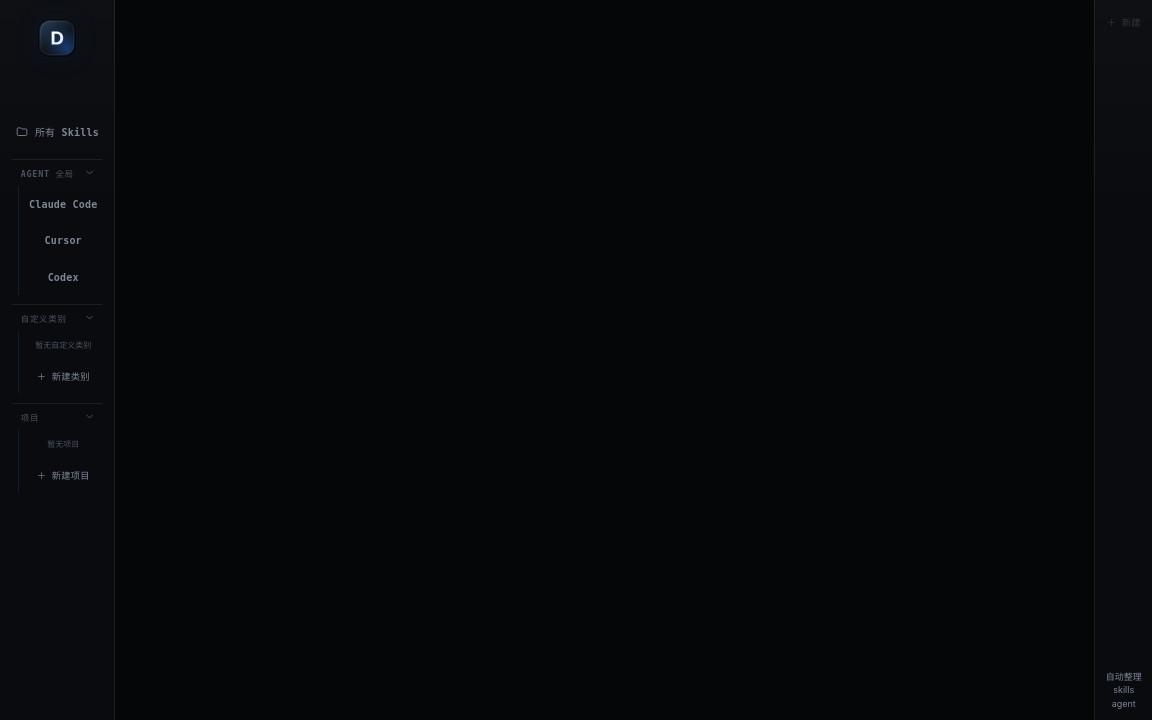
Scenario: B3 assistant platform › can delete the final Agent window and create a fresh one
Check: the button with aria-label "新建 Agent 窗口" is disabled, box [1096,6,1151,38]
Click the button "所有 Skills" at [57, 132], box [12,114,102,150]
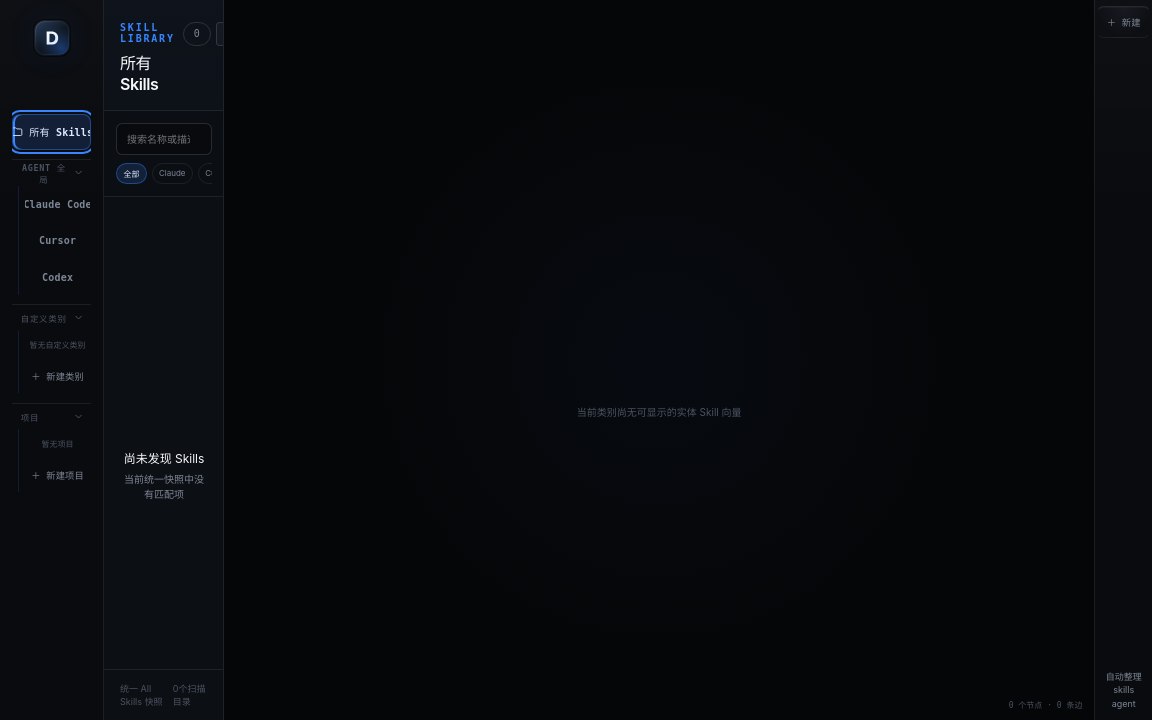
Click the button with aria-label "新建 Agent 窗口" at [1124, 22], box [1096,6,1151,38]
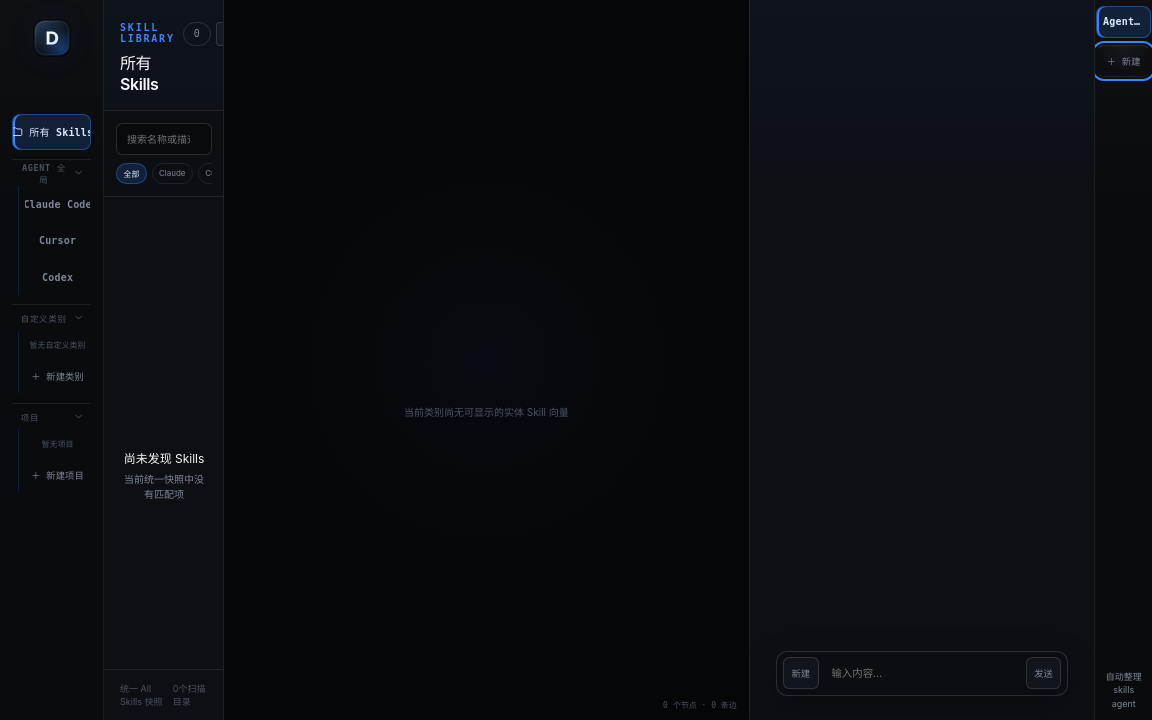
Right-click the button with aria-label "收起 Agent 1" at [1124, 22], box [1096,6,1151,38]
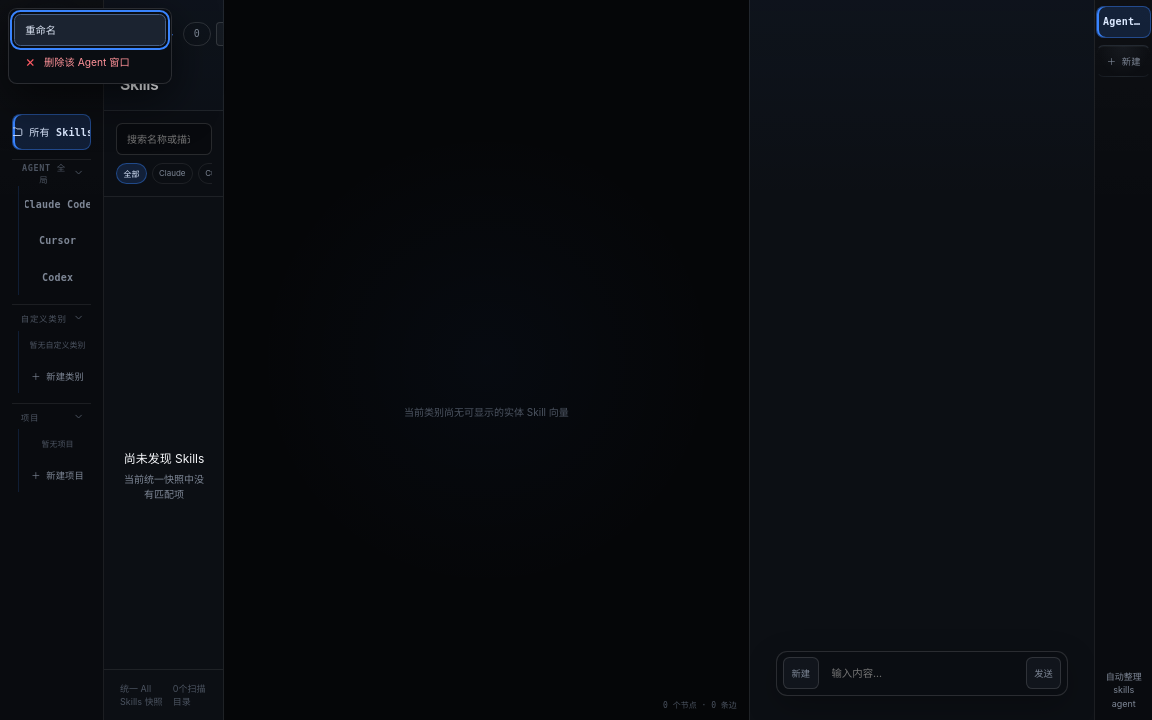
Click the menu item "× 删除该 Agent 窗口" at [90, 62], box [14,46,166,78]
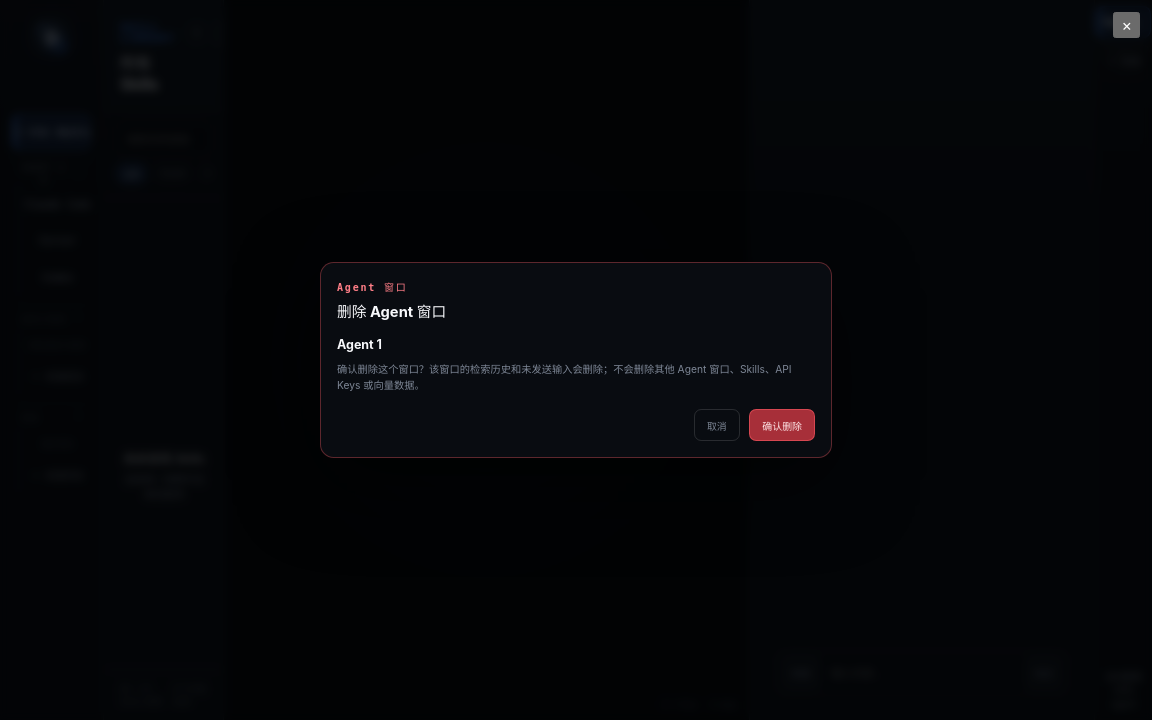
Click the button "确认删除" at [782, 426], box [749,410,815,442]
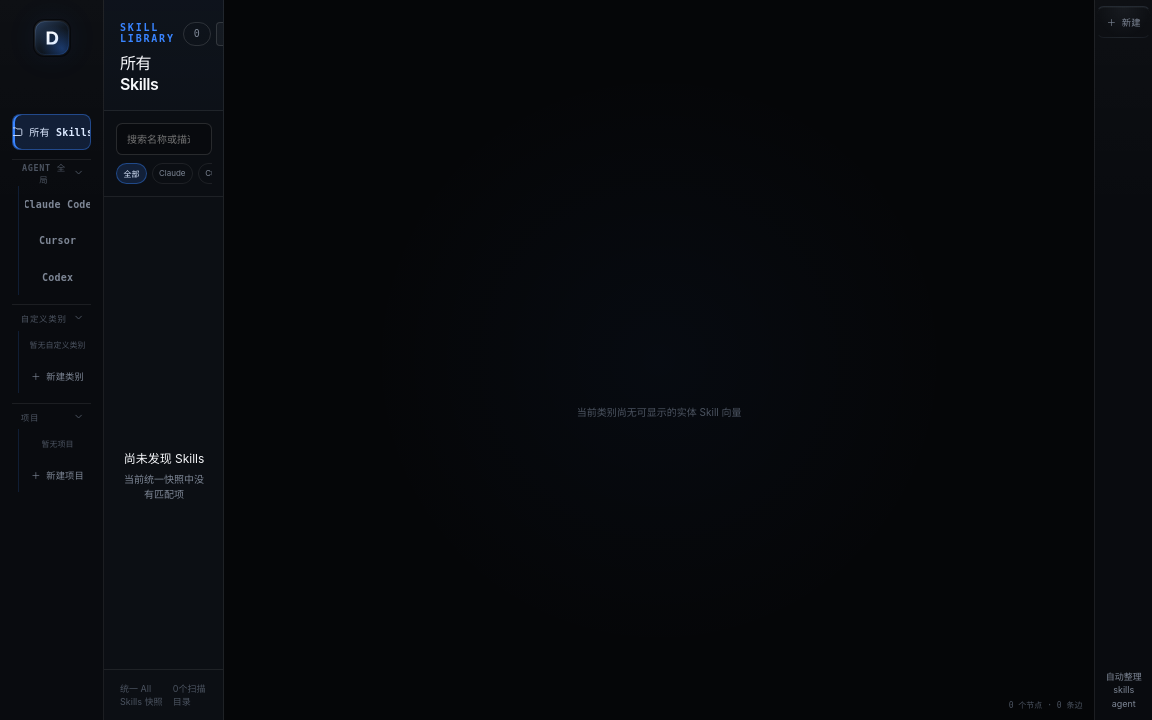
Check: the button with aria-label "新建 Agent 窗口" is enabled
Click the button with aria-label "新建 Agent 窗口" at [1124, 22], box [1096,6,1151,38]
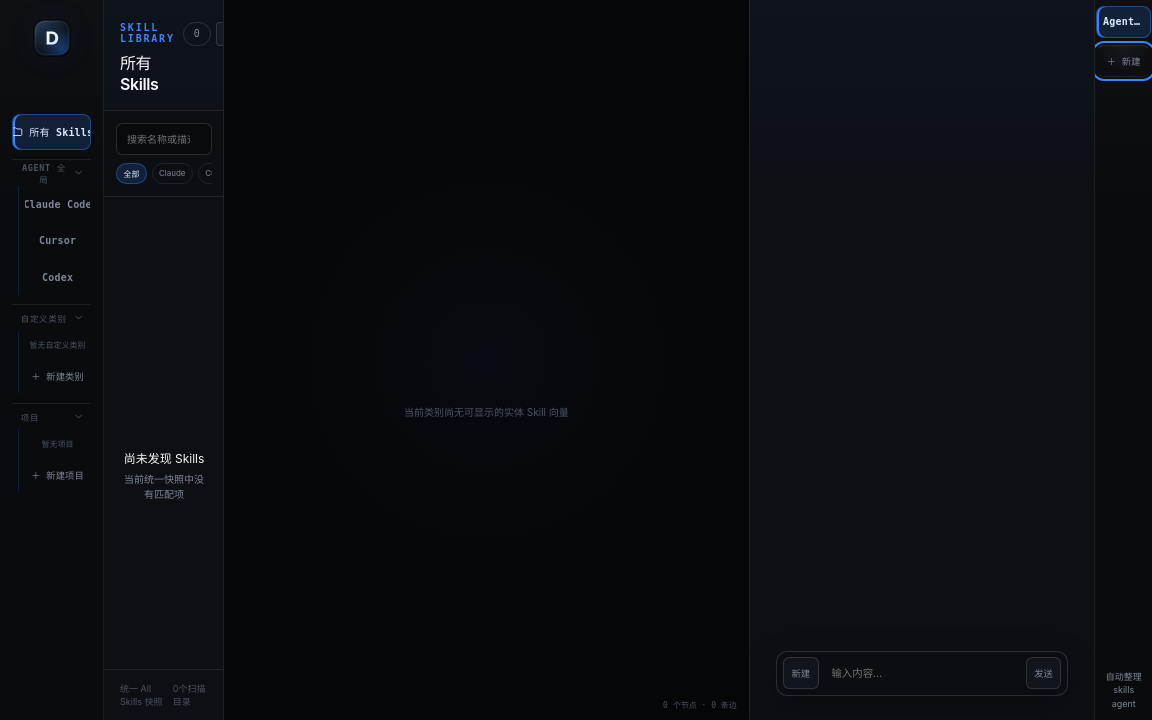
Check: the button with aria-label "收起 Agent 2" is shown, box [1096,6,1151,38]
